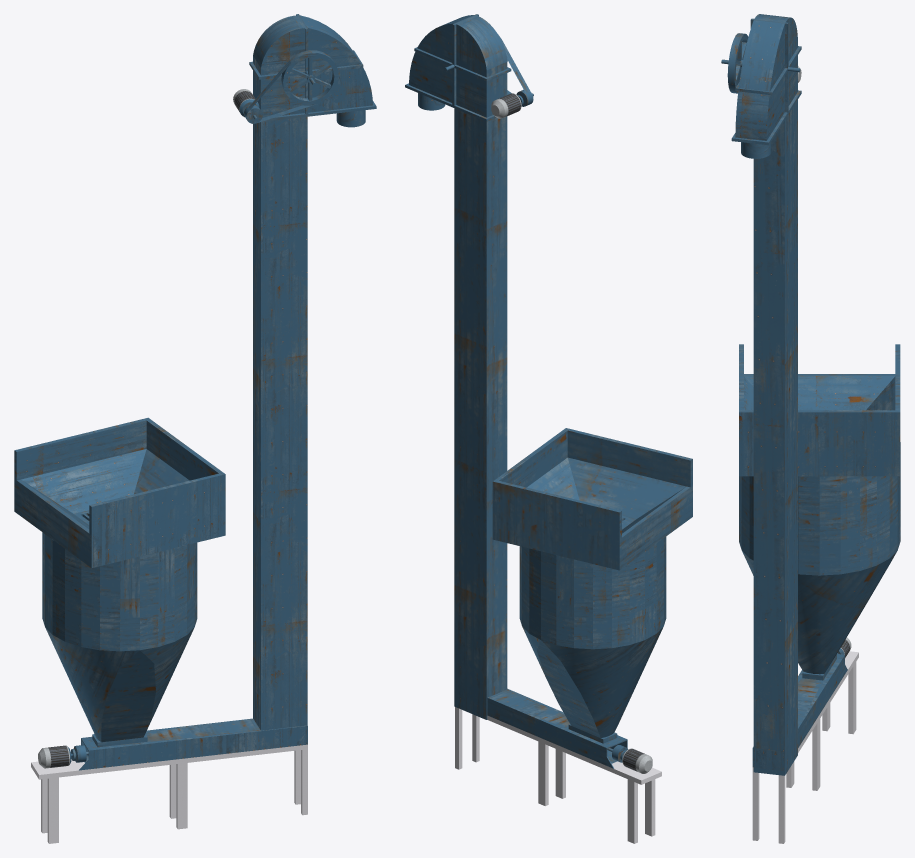
The picture shows the model from 3 angles, left to right: view 1: azimuth 30°, elevation 25°; view 2: azimuth 150°, elevation 25°; view 3: azimuth 270°, elevation 25°; orthographic projection. The views are drawn at different scales.
Parts seen in each view (by area): view 1: root.001, root.004, root; view 2: root.001, root.004, root, root.002, root.003; view 3: root.001, root.004, root.
Part boxes in pixels (box(x1,y1,x2,y2)): root.001: box(14, 14, 376, 770); root.004: box(42, 532, 197, 651); root: box(31, 744, 307, 843); root.001: box(405, 14, 692, 768); root.004: box(519, 537, 666, 649); root: box(455, 707, 661, 843); root.002: box(491, 93, 652, 773); root.003: box(498, 93, 644, 771); root.001: box(721, 14, 900, 775); root.004: box(739, 442, 900, 575); root: box(752, 651, 858, 843).
Bounding box in the file's own units: 3.58 × 8.98 × 1.78.
4 materials, 4 textured.
